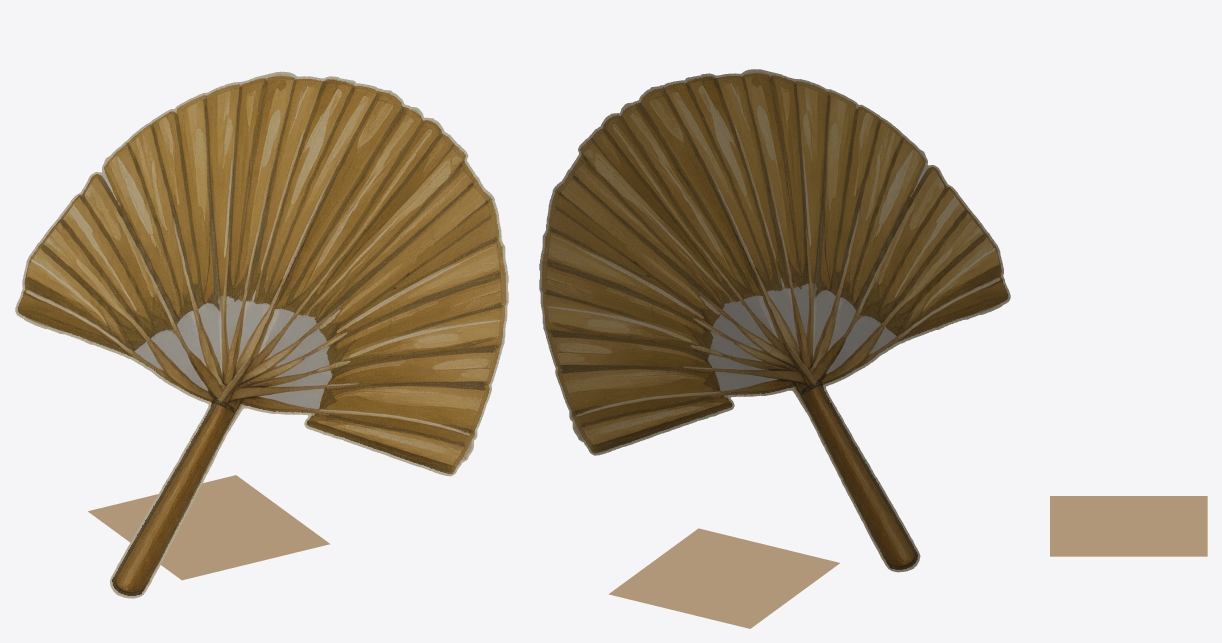
Rendered from toad-standee-wind-fan.glb.
The picture shows the model from 3 angles, left to right: view 1: azimuth 30°, elevation 25°; view 2: azimuth 150°, elevation 25°; view 3: azimuth 270°, elevation 25°; orthographic projection. The views are drawn at different scales.
Parts seen in each view (by area): view 1: wind-fan; view 2: wind-fan; view 3: wind-fan.
Boxes of the visible parts, x1,y1,x2,y2 form: wind-fan: [15, 71, 508, 598]; wind-fan: [539, 69, 1010, 628]; wind-fan: [1050, 496, 1207, 556].
Size of the model in its own units: 0.1 by 0.0953 by 0.035.
Materials: 1 (1 with a texture image).
